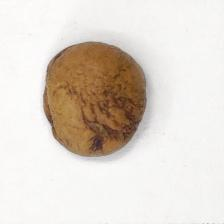NG: (76, 81, 147, 154)
